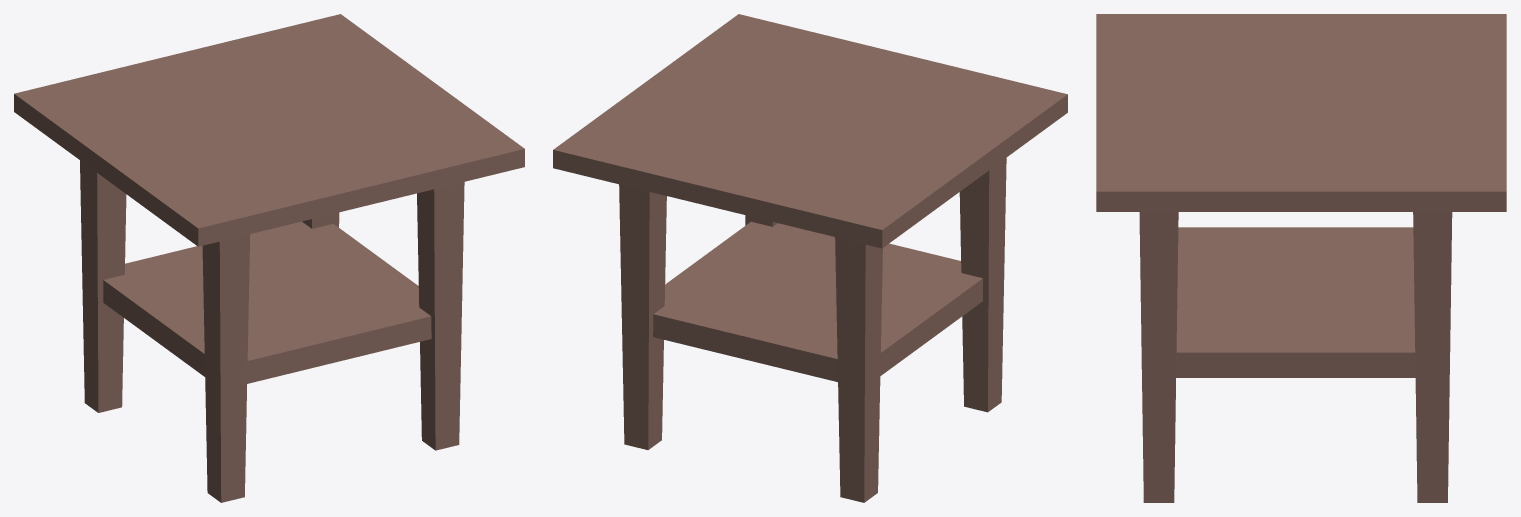
The model's file is side-table.glb.
3 renders of one model, left to right at view 1: azimuth 30°, elevation 25°; view 2: azimuth 150°, elevation 25°; view 3: azimuth 270°, elevation 25°, orthographic. The views are drawn at different scales.
Visible parts, largest first — view 1: coffee_table_003; view 2: coffee_table_003; view 3: coffee_table_003.
Part boxes in pixels (x1,y1,x2,y2): coffee_table_003: (14,14,524,502); coffee_table_003: (553,14,1067,502); coffee_table_003: (1096,14,1506,502).
Size of the model in its own units: 0.5485 by 0.4828 by 0.5357.
Materials: 1 (1 with a texture image).
